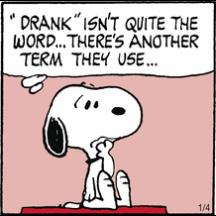snoopy: (41, 79, 145, 211)
